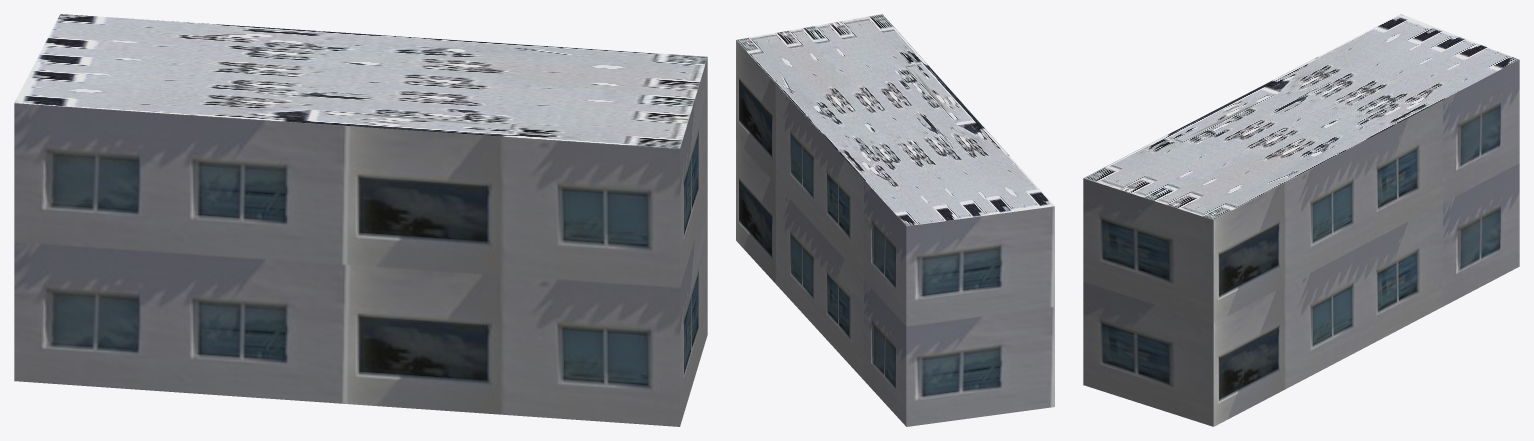
Rendered from ResTex__1023.fbx.
3 views of the same model, side by side, from view 1: azimuth 30°, elevation 25°; view 2: azimuth 150°, elevation 25°; view 3: azimuth 270°, elevation 25° (orthographic). The views are drawn at different scales.
Parts seen in each view (by area): view 1: CityEngineMaterial_10_m, CityEngineMaterial_4_m; view 2: CityEngineMaterial_10_m, CityEngineMaterial_4_m; view 3: CityEngineMaterial_10_m, CityEngineMaterial_4_m.
Part boxes in pixels (x1,y1,x2,y2): CityEngineMaterial_10_m: (14, 57, 707, 426); CityEngineMaterial_4_m: (14, 14, 707, 148); CityEngineMaterial_10_m: (736, 40, 1054, 426); CityEngineMaterial_4_m: (736, 14, 1054, 226); CityEngineMaterial_10_m: (1083, 60, 1519, 426); CityEngineMaterial_4_m: (1084, 14, 1518, 219).
Size of the model in its own units: 12.82 by 6 by 11.47.
Materials: 2 (2 with a texture image).
